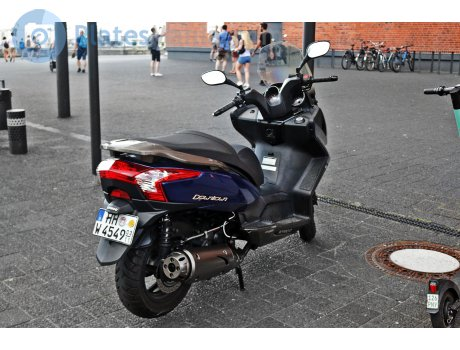License Plates: (93, 209, 132, 243)
